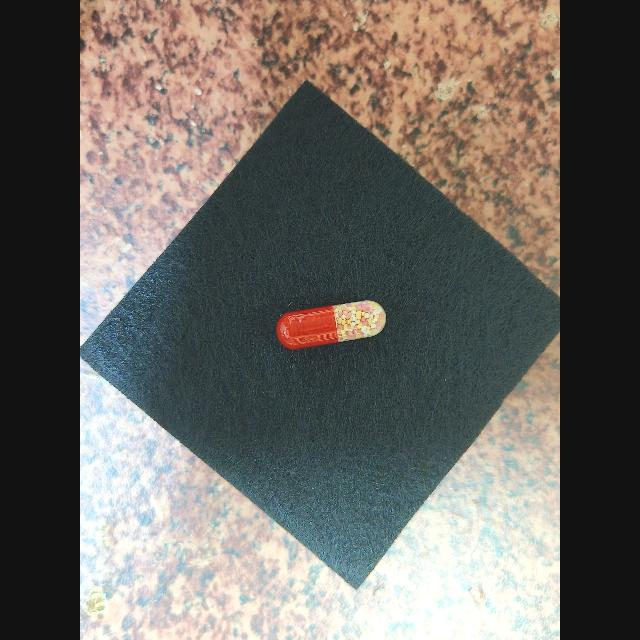Intact Capsule: (276, 300, 386, 350)
